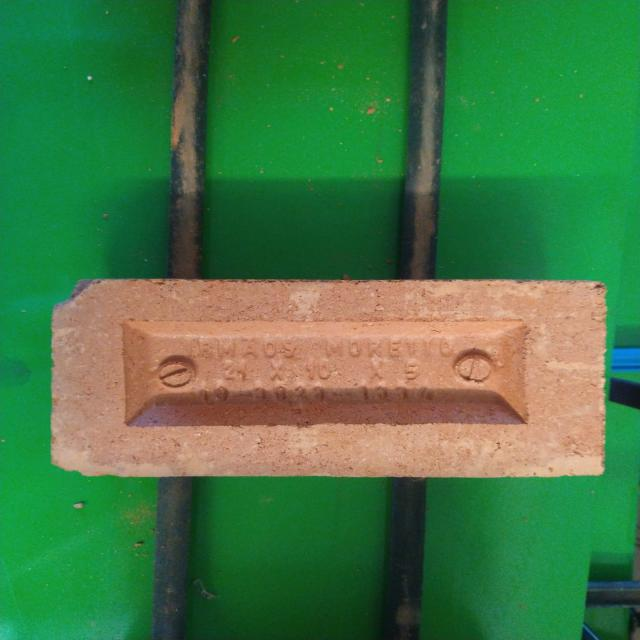bricks_ruin: (48, 280, 605, 477)
